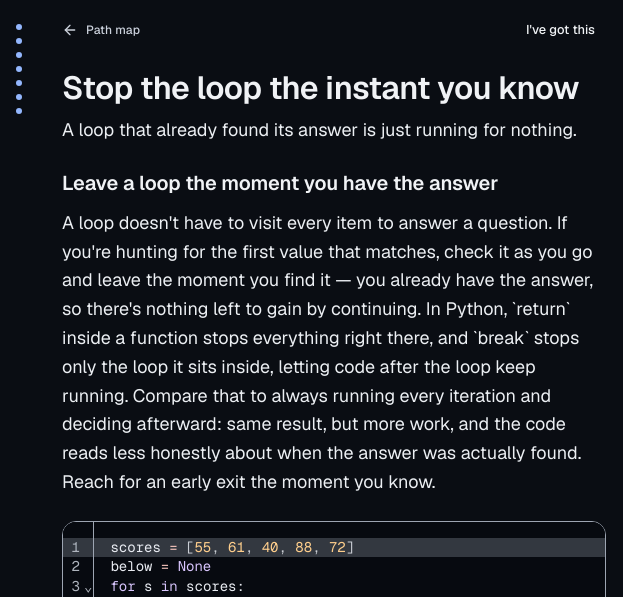
Test case: LessonView › skipping records the skipped state and never locks the content underneath
The image size is (623, 597).
Expected: the heading "Stop the loop the instant you know" is shown, [62,68,579,108]
Click the button "I've got this".
click(560, 30)  # box [515,16,606,44]
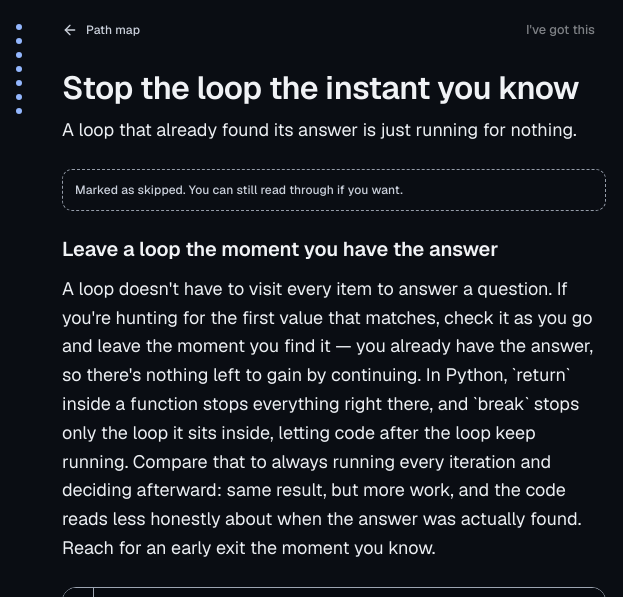
Expected: the text "A loop that already found its answer is just running for nothing." is shown, [62,118,577,141]
Expected: the text "Marked as skipped. You can still read through if you want." is shown, [62,169,606,211]
